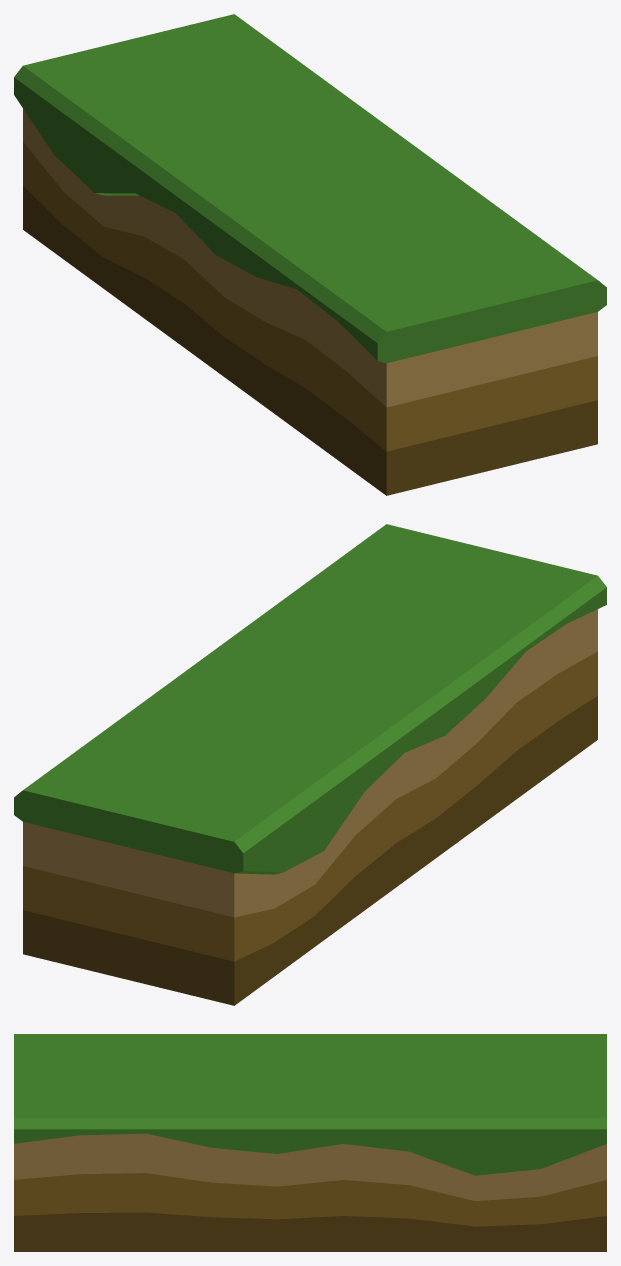
The model's file is floor_gardener.fbx.
The picture shows the model from 3 angles, top to bottom: view 1: azimuth 30°, elevation 25°; view 2: azimuth 150°, elevation 25°; view 3: azimuth 270°, elevation 25°; orthographic projection. The views are drawn at different scales.
Visible parts, largest first — view 1: floor_gardener; view 2: floor_gardener; view 3: floor_gardener.
Boxes of the visible parts, x1,y1,x2,y2 form: floor_gardener: (14, 14, 606, 495); floor_gardener: (14, 524, 606, 1005); floor_gardener: (14, 1034, 606, 1251).
Bounding box in the file's own units: 495 × 338 × 1360.
